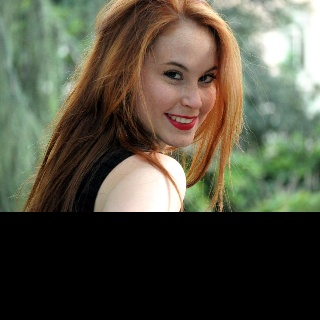without_mask: (130, 22, 216, 148)
